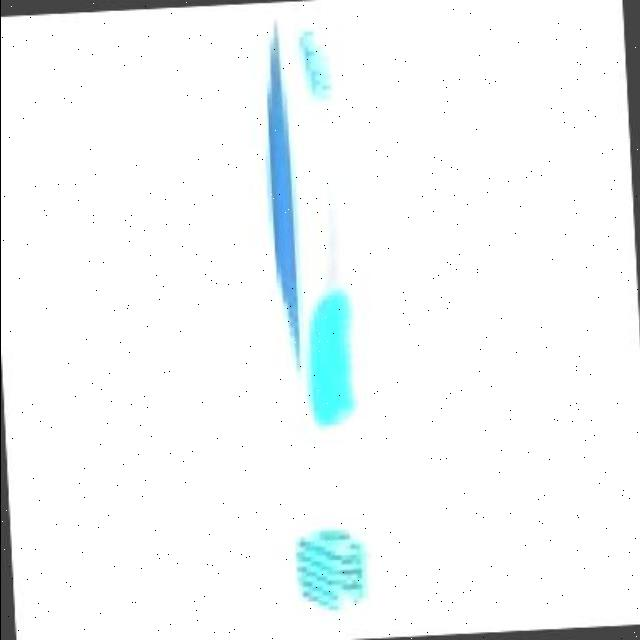toothbrush: (249, 0, 387, 638)
